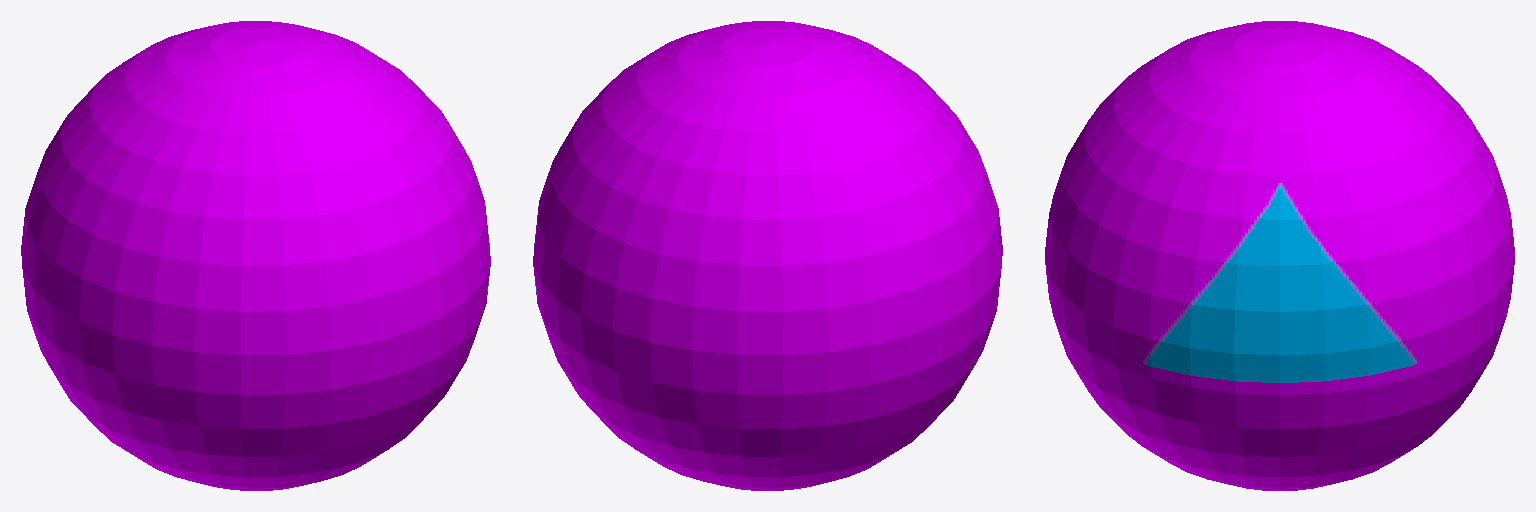
The picture shows the model from 3 angles: view 1: azimuth 30°, elevation 25°; view 2: azimuth 150°, elevation 25°; view 3: azimuth 270°, elevation 25°; orthographic projection.
Parts seen in each view (by area): view 1: 球; view 2: 球; view 3: 球.
Boxes of the visible parts, box(x1,y1,x2,y2) form: 球: box(21, 21, 490, 490); 球: box(533, 21, 1002, 490); 球: box(1045, 21, 1514, 490).
Size of the model in its own units: 2 by 2 by 2.
1 materials, 1 textured.